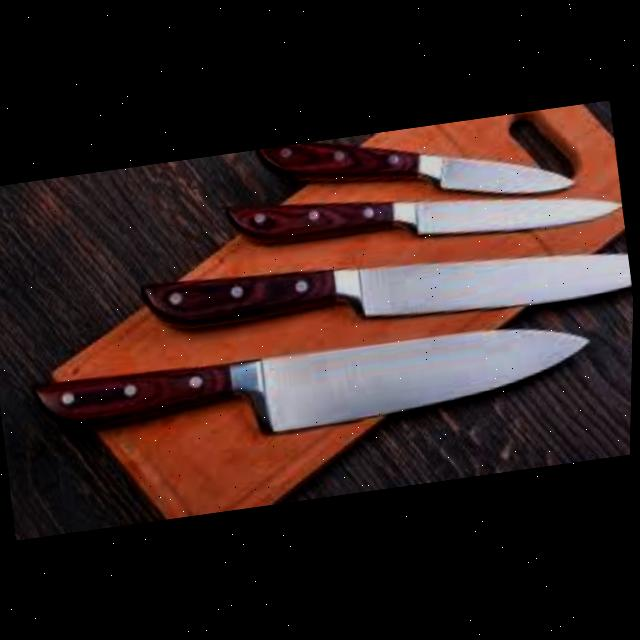Knife: (33, 306, 598, 466), (139, 215, 635, 358), (224, 150, 625, 270), (252, 106, 578, 232)
